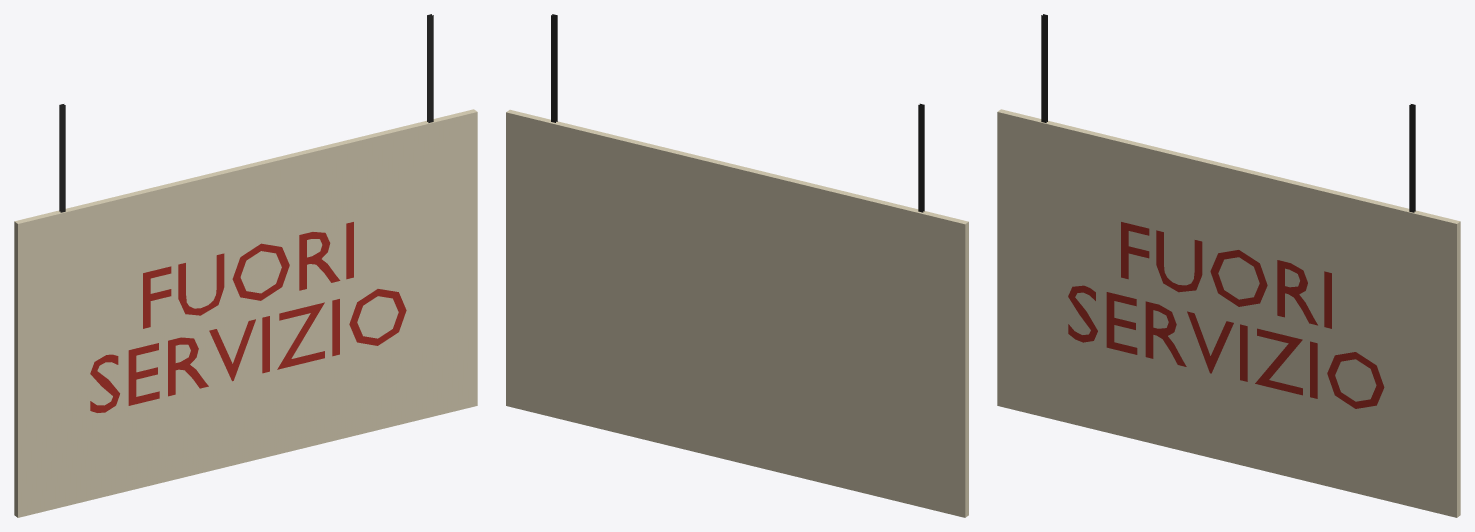
Rendered from sign_out_of_order.gltf.
3 views of the same model, side by side, from view 1: azimuth 30°, elevation 25°; view 2: azimuth 150°, elevation 25°; view 3: azimuth 330°, elevation 25° (orthographic).
Visible parts, largest first — view 1: Mesh, Lettering; view 2: Mesh; view 3: Mesh, Lettering.
Part boxes in pixels (box(x1,y1,x2,y2)): Mesh: box(14, 14, 477, 517); Lettering: box(90, 222, 406, 412); Mesh: box(506, 14, 968, 517); Mesh: box(997, 14, 1460, 517); Lettering: box(1068, 222, 1384, 408).
Bounding box in the file's own units: 0.36 × 0.3 × 0.006.
